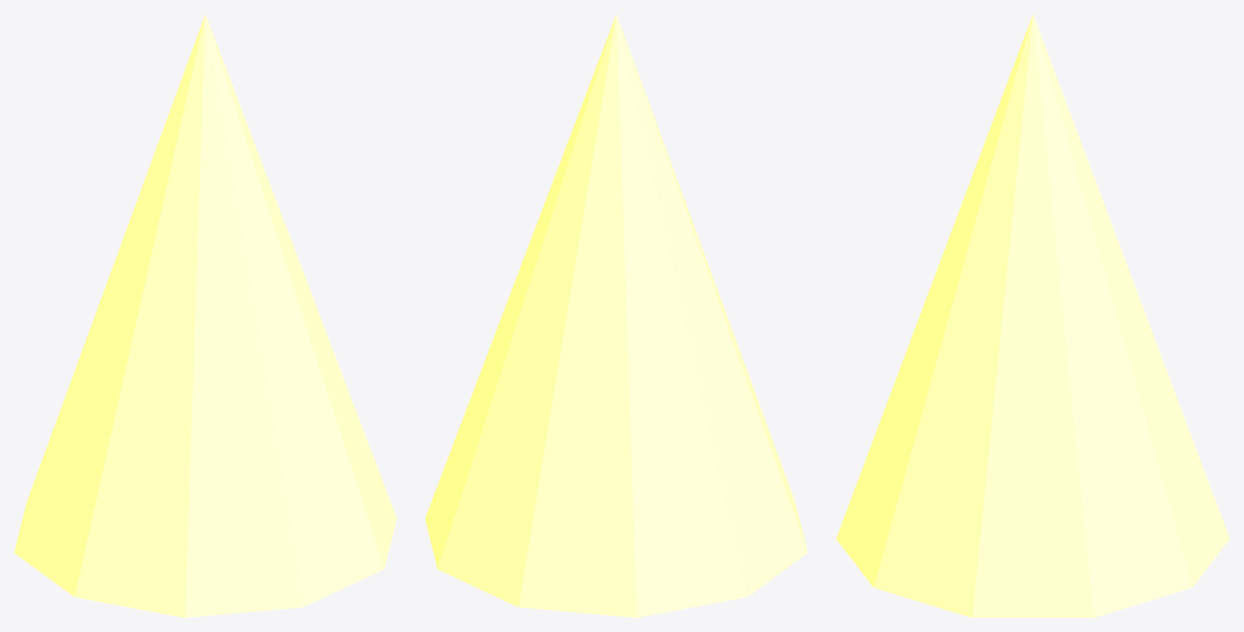
File: vfx_muzzle.glb
The picture shows the model from 3 angles, left to right: view 1: azimuth 30°, elevation 25°; view 2: azimuth 150°, elevation 25°; view 3: azimuth 270°, elevation 25°; orthographic projection.
Visible parts, largest first — view 1: FlashCone; view 2: FlashCone; view 3: FlashCone.
Boxes of the visible parts, bbox=[...] form: FlashCone: bbox=[14, 14, 396, 617]; FlashCone: bbox=[425, 14, 807, 617]; FlashCone: bbox=[836, 14, 1229, 617].
Size of what is drawn, in the model's own units: 0.6466 by 1 by 0.6801.
